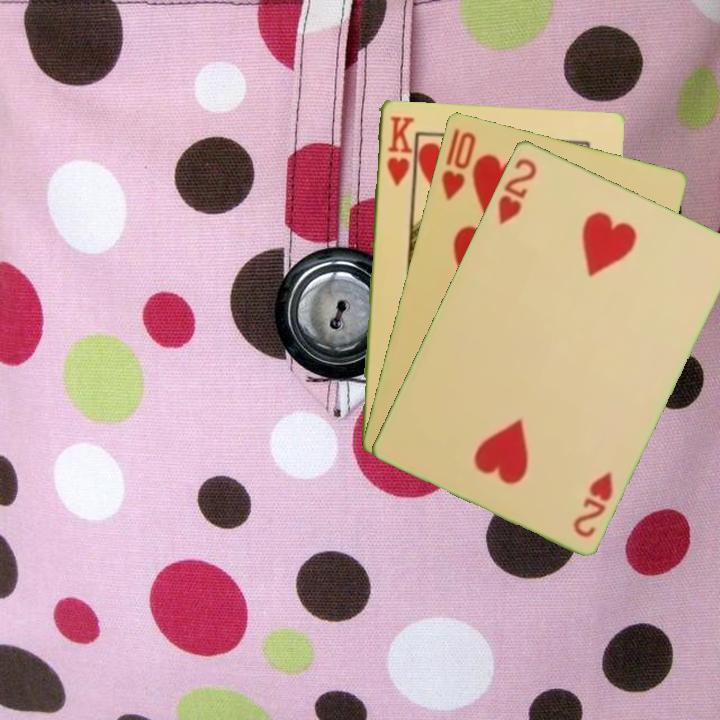10h: (437, 124, 479, 203)
2h: (569, 467, 616, 540), (494, 154, 540, 227)
Kh: (383, 112, 415, 188)
